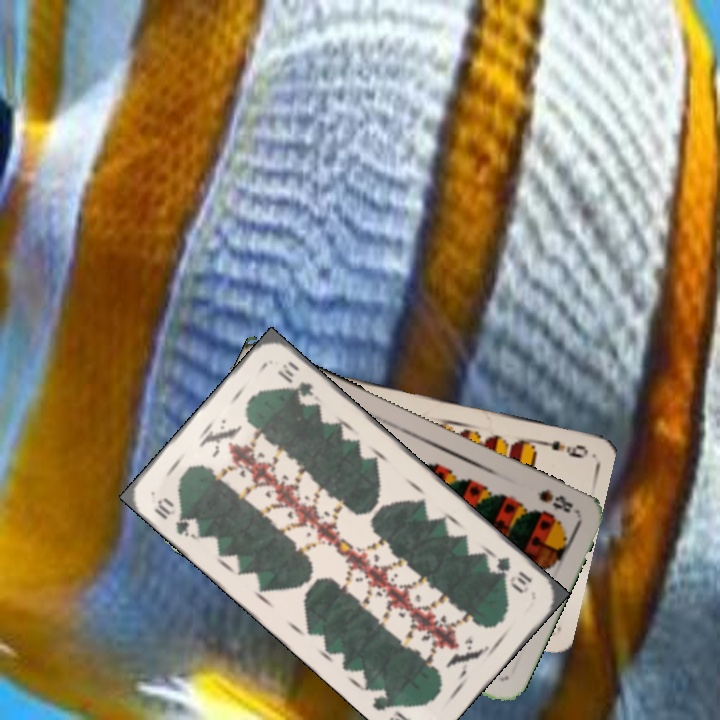E9: (533, 435, 591, 461)
G10: (149, 493, 203, 541), (492, 552, 535, 596)
S8: (533, 484, 576, 516)
